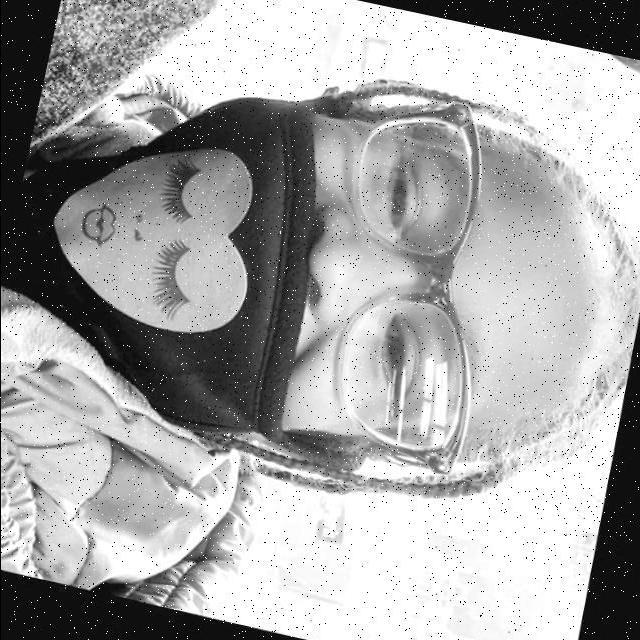hairnet: (163, 98, 398, 442)
